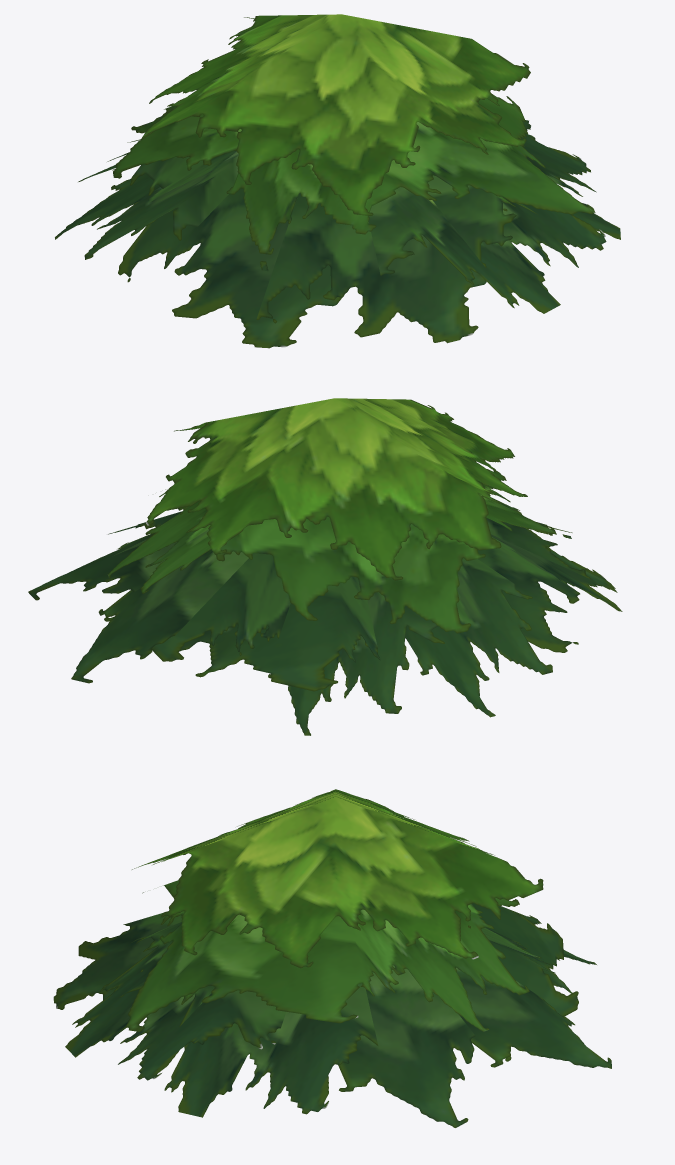
File: sm_flower_05.FBX
3 views of the same model, one above another, from view 1: azimuth 30°, elevation 25°; view 2: azimuth 150°, elevation 25°; view 3: azimuth 270°, elevation 25° (orthographic).
Visible parts, largest first — view 1: sm_flower_10; view 2: sm_flower_10; view 3: sm_flower_10.
Part boxes in pixels (left/top/right/bottom): sm_flower_10: left=55, top=14, right=620, bottom=348; sm_flower_10: left=28, top=398, right=622, bottom=735; sm_flower_10: left=53, top=789, right=611, bottom=1127.
Size of the model in its own units: 140 by 139 by 51.47.
